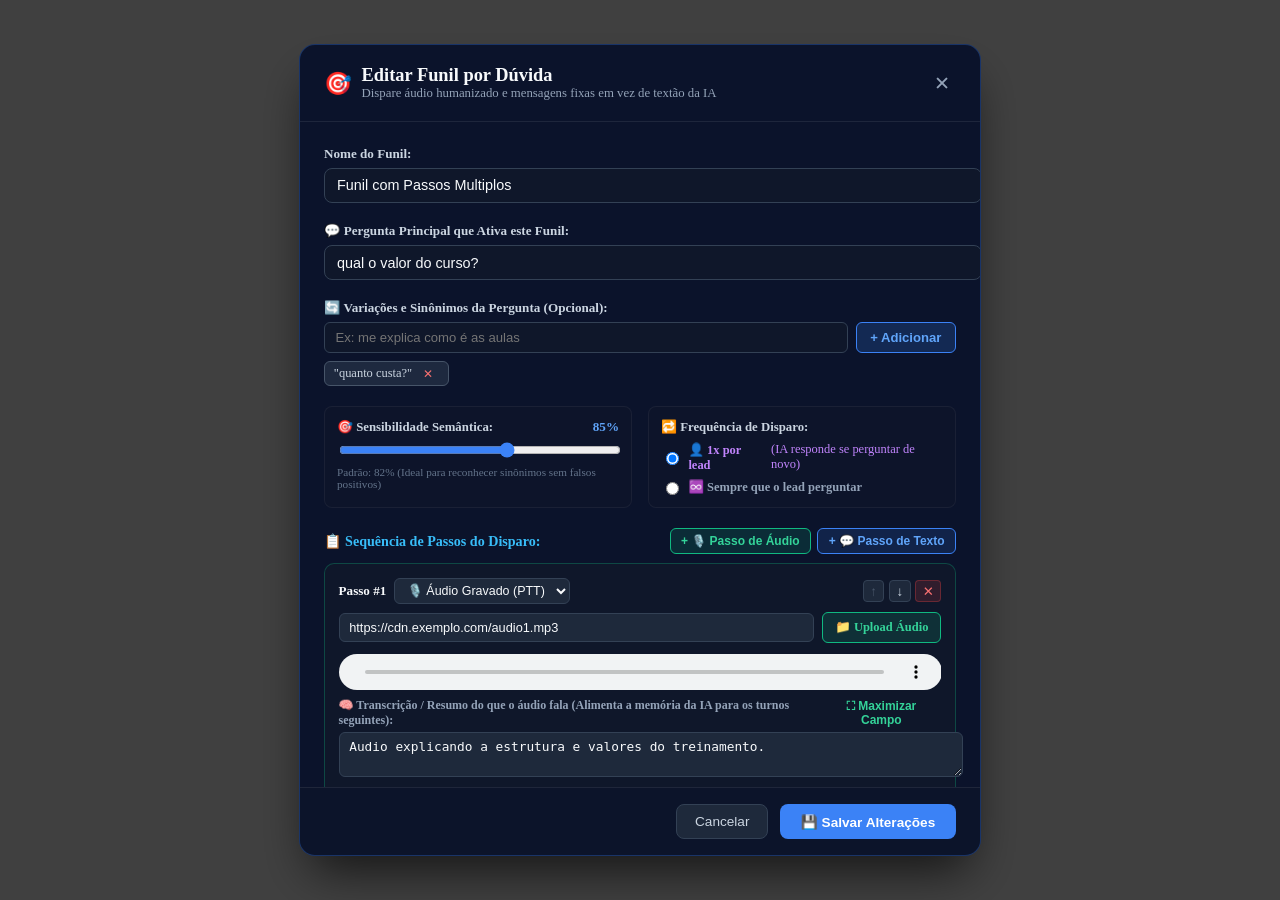
Test: QuestionFunnelModal - Funcionalidade de Maximizar Campo › deve permitir maximizar o campo de transcricao do audio e sincronizar alteracoes
The width and height of the screenshot is (1280, 900).
Click the button with test id "maximize-step-audio-0" at (881, 713), box 821,698 -> 941,728
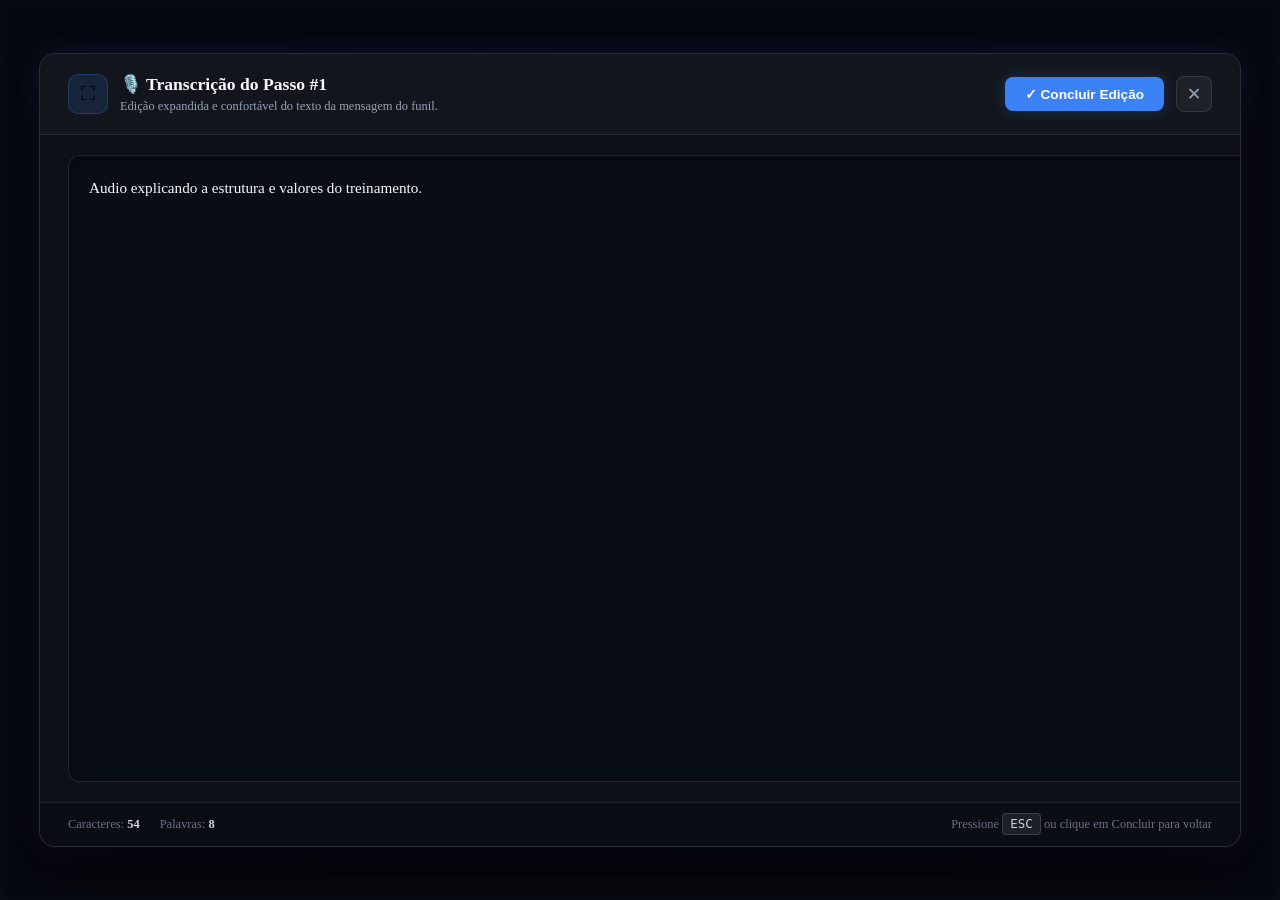
Expected: the heading "🎙️ Transcrição do Passo #1" is shown, 120,74 -> 327,94
Expected: the text box with placeholder "Digite o texto aqui..." holds "Audio explicando a estrutura e valores do treinamento."
Replace the text in the text box with placeholder "Digite o texto aqui..." with "Nova transcricao detalhada do audio..." at (661, 468), box 68,155 -> 1254,782
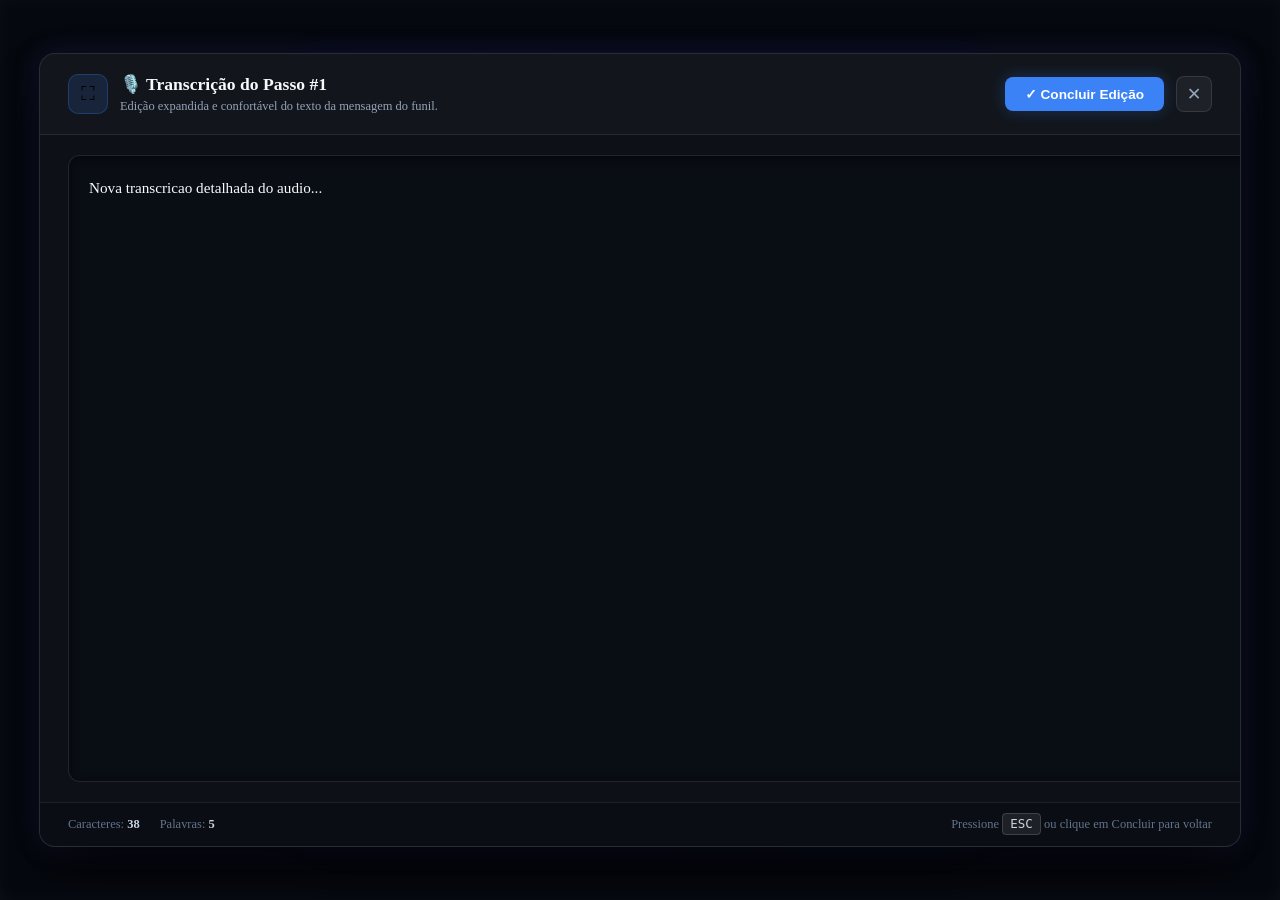
Click the button "✓ Concluir Edição" at (1085, 94), box 1005,77 -> 1164,111
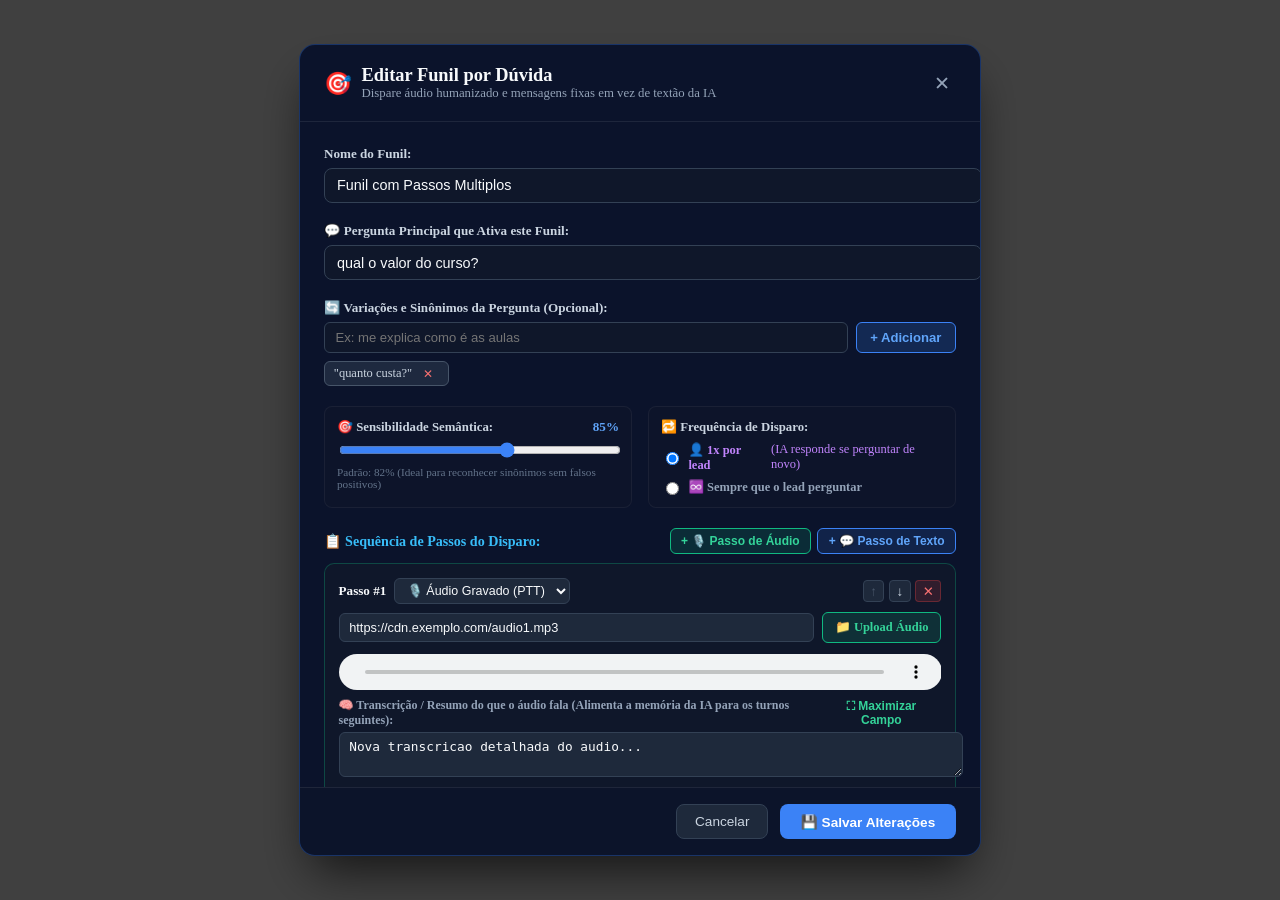
Expected: the text box showing "Nova transcricao detalhada do audio..." is shown, 339,732 -> 963,777
Expected: the heading "🎙️ Transcrição do Passo #1" is gone
